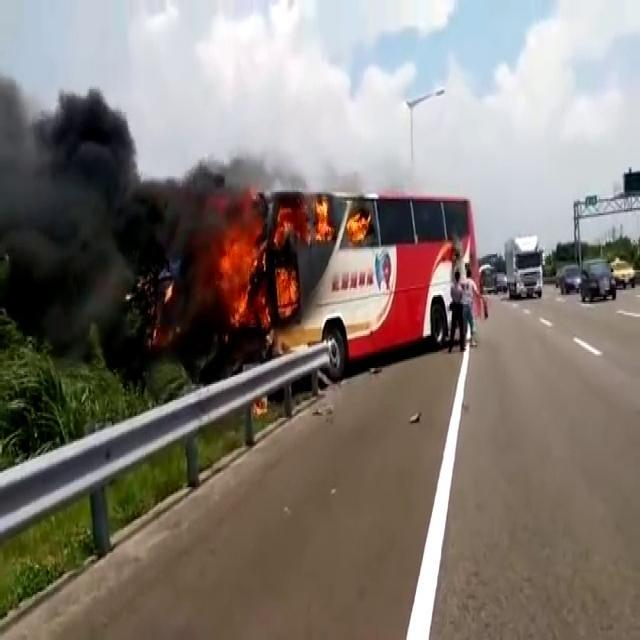Fire: (213, 196, 304, 332), (301, 186, 368, 252)
Smoke: (0, 42, 215, 380)
